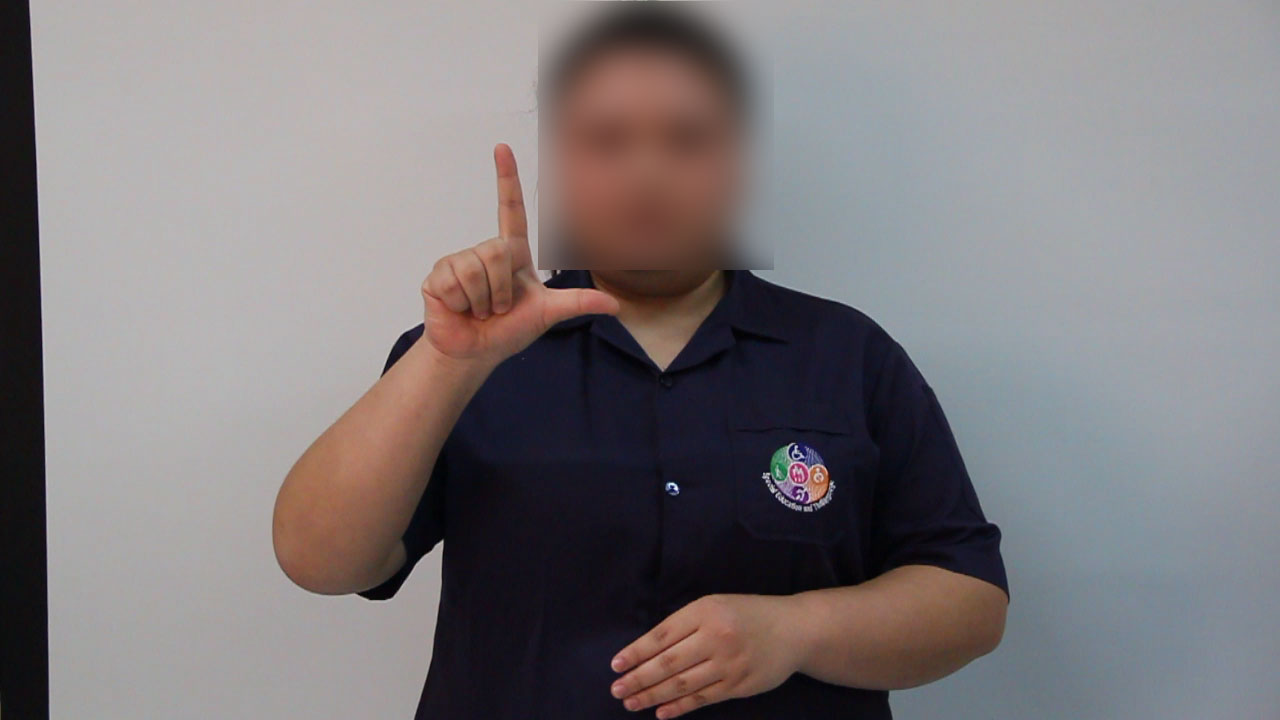lor: (392, 110, 629, 393)
